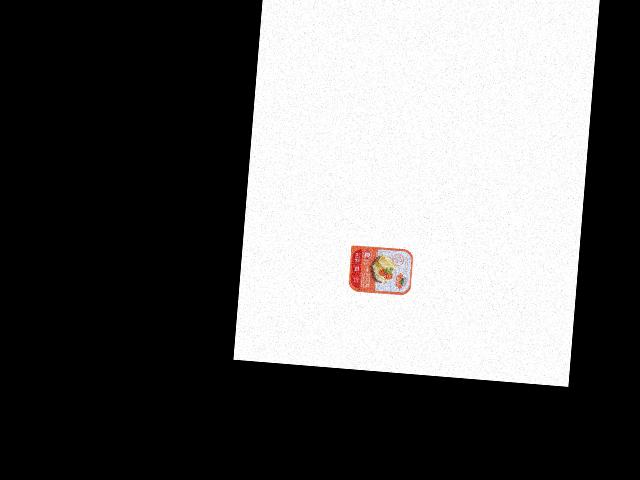cheese: (343, 243, 415, 299)
